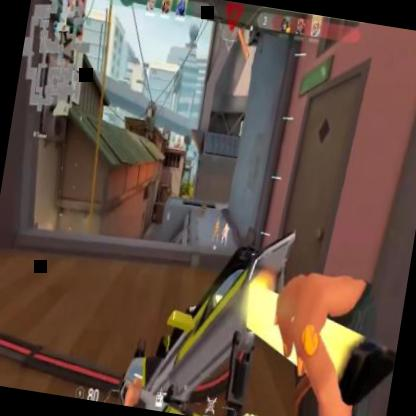enemy: (210, 219, 220, 241), (220, 222, 230, 244)
enemy_head: (224, 222, 228, 228), (216, 220, 219, 224)
